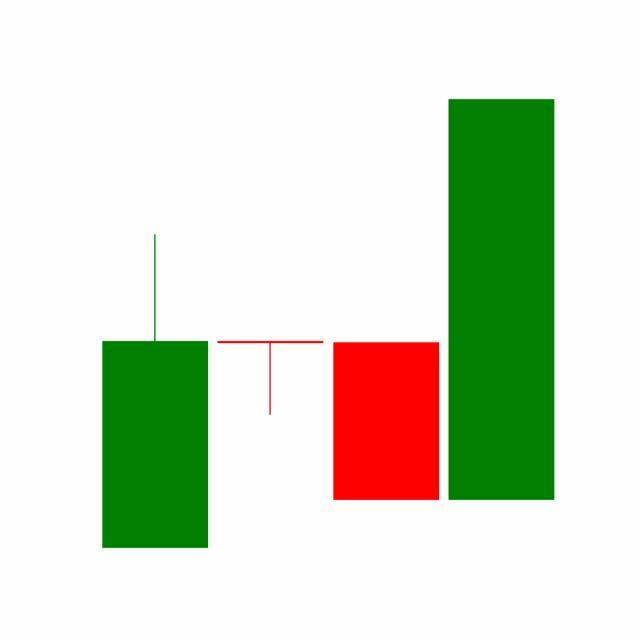Marubozu: (329, 341, 445, 501)
